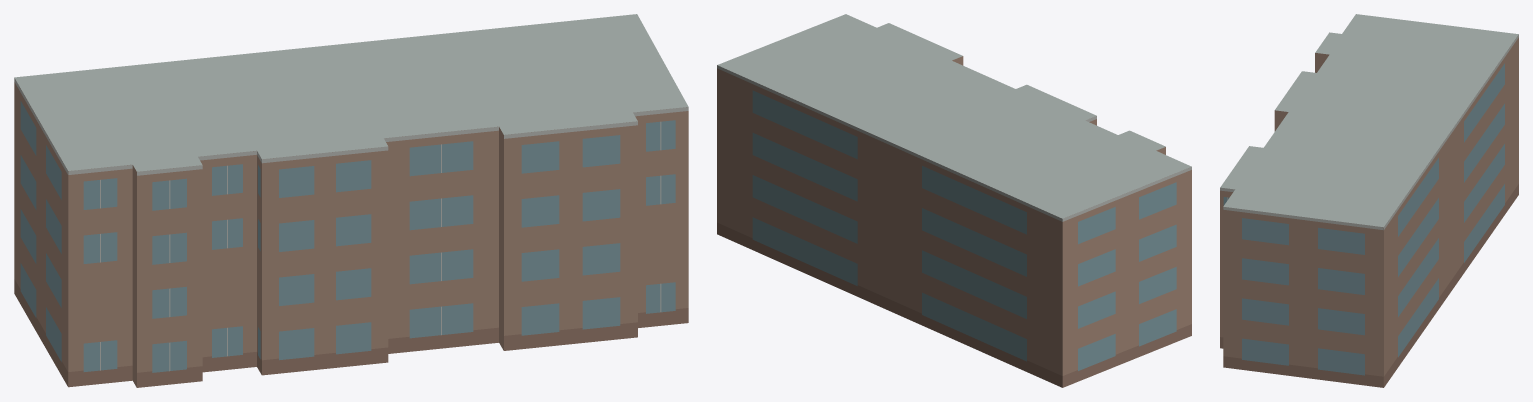
File: survey-upis-32946326.glb
3 views of the same model, side by side, from view 1: azimuth 30°, elevation 25°; view 2: azimuth 150°, elevation 25°; view 3: azimuth 270°, elevation 25° (orthographic). The views are drawn at different scales.
Parts seen in each view (by area): view 1: survey-upis-32946326.tmp; view 2: survey-upis-32946326.tmp; view 3: survey-upis-32946326.tmp.
Part boxes in pixels (box(x1,y1,x2,y2)): survey-upis-32946326.tmp: box(14, 14, 688, 387); survey-upis-32946326.tmp: box(717, 14, 1191, 387); survey-upis-32946326.tmp: box(1220, 14, 1518, 387).
Bounding box in the file's own units: 37.29 × 13.1 × 22.08.
